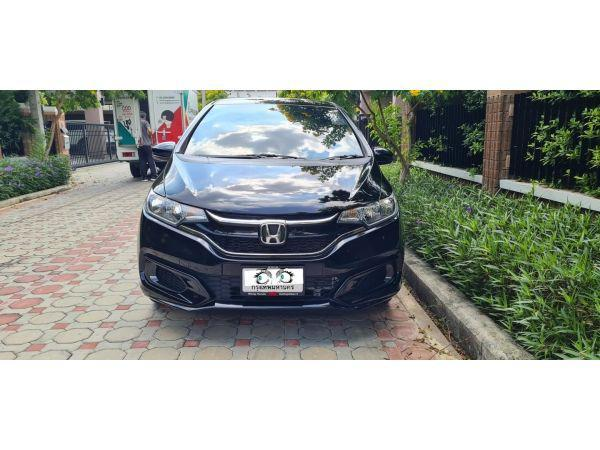Hatchback: (132, 90, 416, 330)
